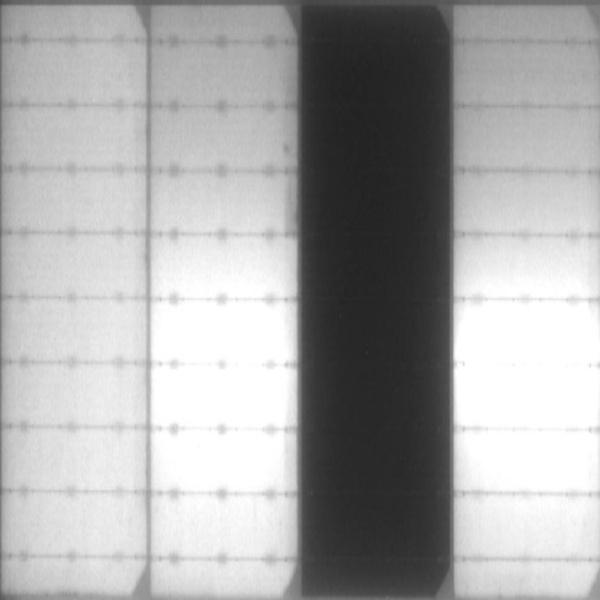hot_spot: (152, 364, 288, 426), (463, 364, 597, 423), (464, 432, 592, 488), (153, 308, 294, 357), (457, 310, 595, 360), (156, 435, 278, 485)
no_electricity: (303, 8, 456, 595)
